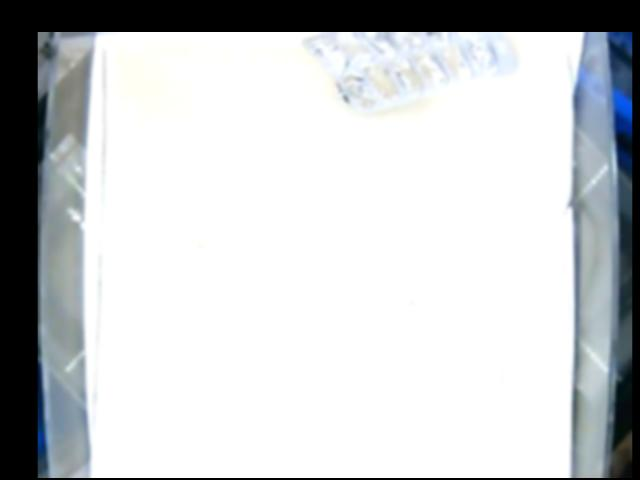Medicine: (303, 32, 519, 113)
